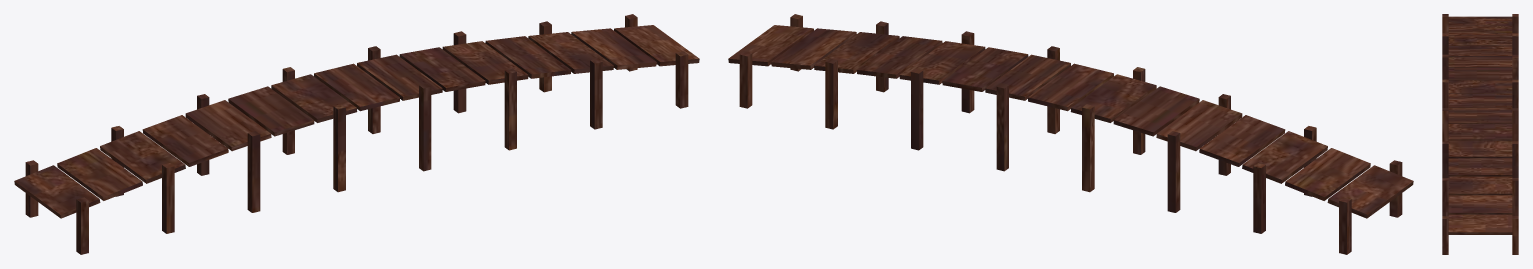
File: 1_jembatan_02.fbx
3 renders of one model, left to right at view 1: azimuth 30°, elevation 25°; view 2: azimuth 150°, elevation 25°; view 3: azimuth 270°, elevation 25°, orthographic. The views are drawn at different scales.
Visible parts, largest first — view 1: Jembatan_Nusantara_Base; view 2: Jembatan_Nusantara_Base; view 3: Jembatan_Nusantara_Base.
Boxes of the visible parts, x1,y1,x2,y2 form: Jembatan_Nusantara_Base: [14, 14, 699, 254]; Jembatan_Nusantara_Base: [728, 14, 1413, 254]; Jembatan_Nusantara_Base: [1442, 14, 1518, 254].
Size of the model in its own units: 3200 by 396 by 480.
